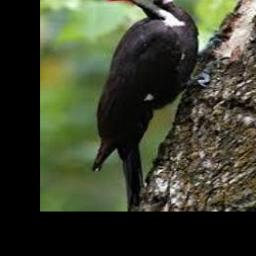Woodpecker: (93, 0, 222, 211)
